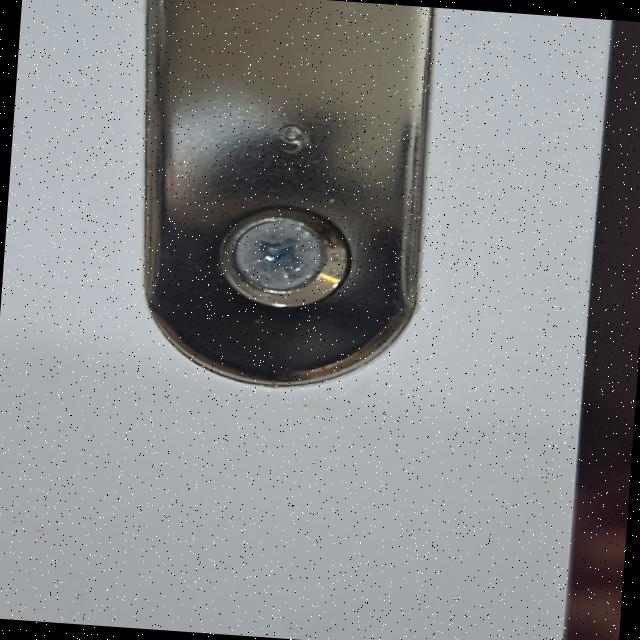Pozidriv: (210, 202, 348, 312)
